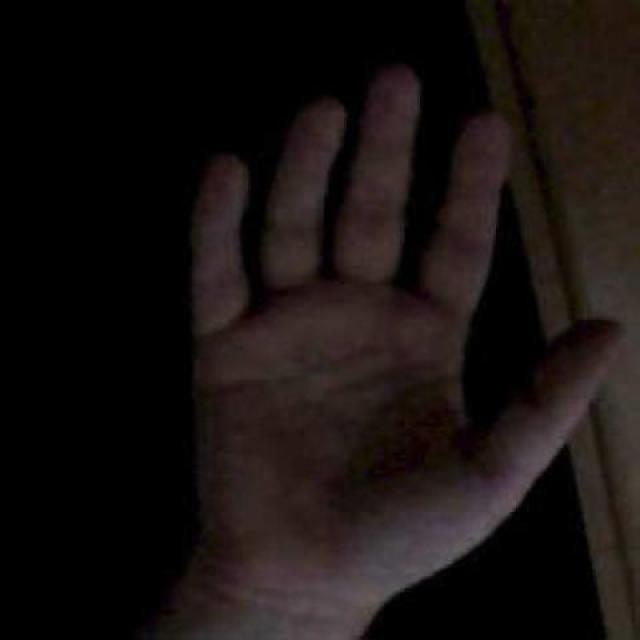Open Hand: (179, 62, 628, 639)
